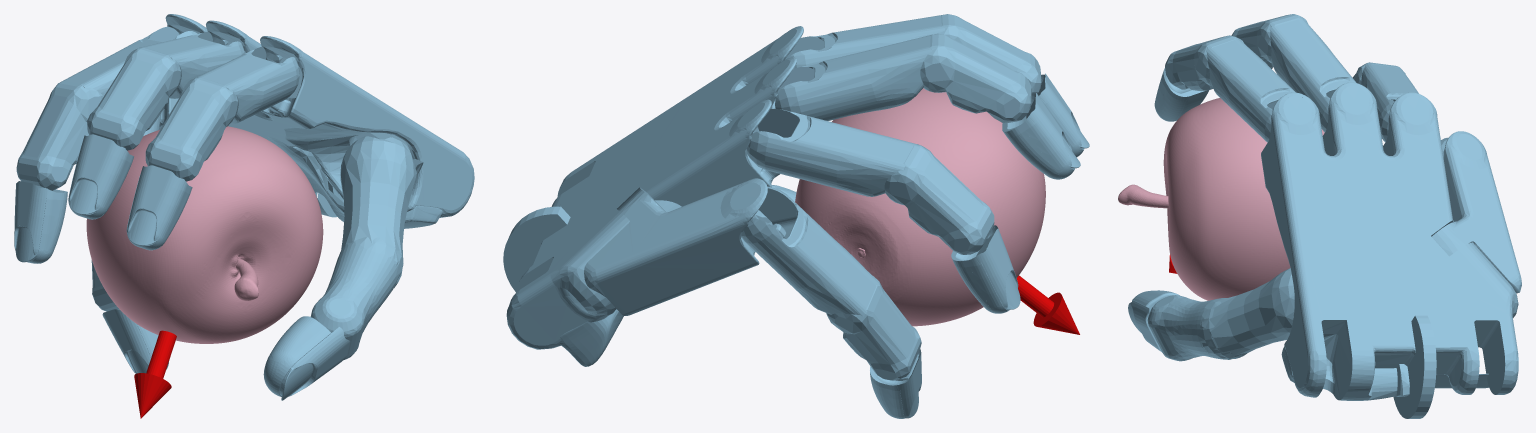
3 views of the same model, side by side, from view 1: azimuth 30°, elevation 25°; view 2: azimuth 150°, elevation 25°; view 3: azimuth 270°, elevation 25° (orthographic). The views are drawn at different scales.
Visible parts, largest first — view 1: world, apple.stl; view 2: world, apple.stl; view 3: world, apple.stl.
Boxes of the visible parts, x1,y1,x2,y2 form: world: (14, 14, 474, 418); apple.stl: (86, 126, 323, 343); world: (503, 14, 1089, 418); apple.stl: (795, 88, 1045, 326); world: (1128, 14, 1521, 418); apple.stl: (1118, 98, 1324, 300).
Size of the model in its own units: 0.172 by 0.1275 by 0.1437.
